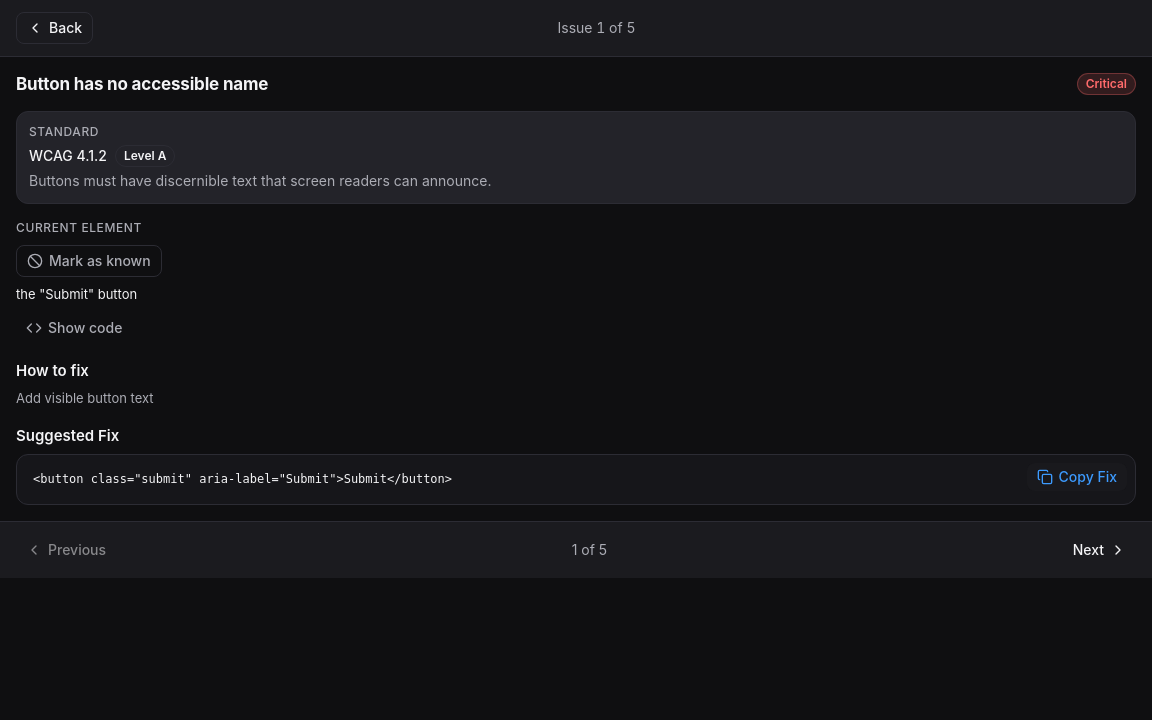
Test case: IssueDetail › leads with the plain descriptor and hides raw markup behind a toggle in site-owner mode
Expected: the text "the \"Submit\" button" is shown, [16,286,137,302]
Expected: the text "<button class=\"submit\">Submit</button>" is not shown
Click the button "Show code" at (74, 328), box [16,312,132,344]
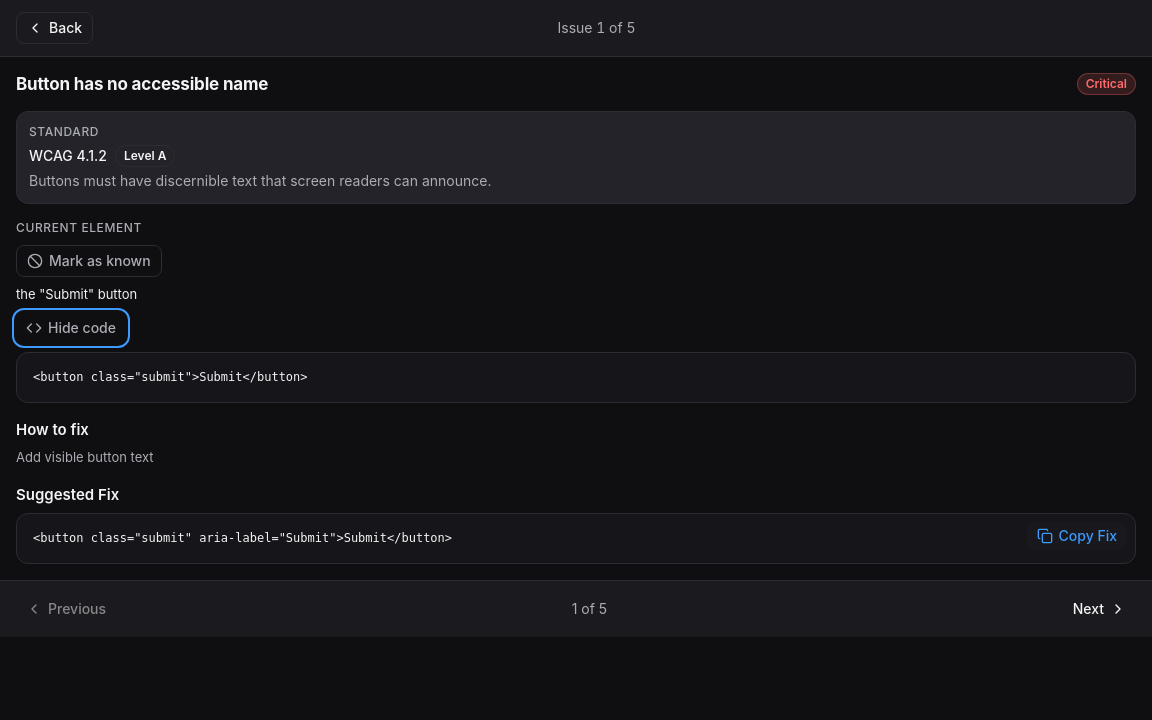
Expected: the text "<button class=\"submit\">Submit</button>" is shown, [33,370,308,384]
Expected: the button named "show code" is expanded, [16,312,126,344]
